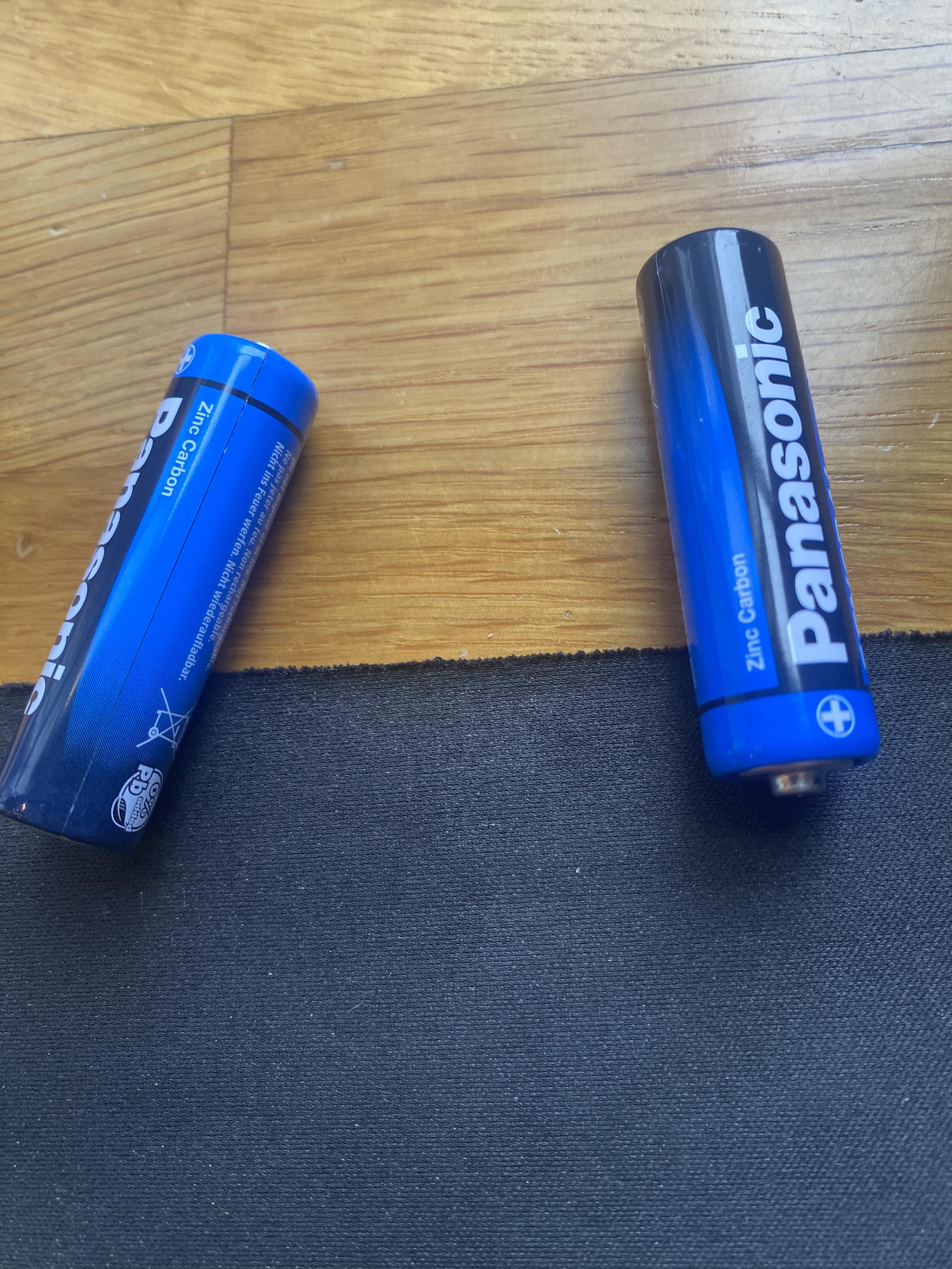AA: (0, 328, 329, 860), (626, 219, 886, 802)
